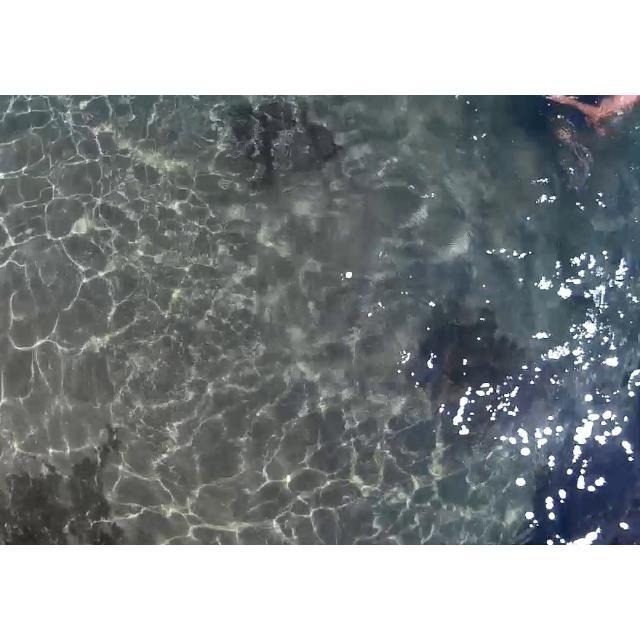human: (530, 95, 636, 164)
